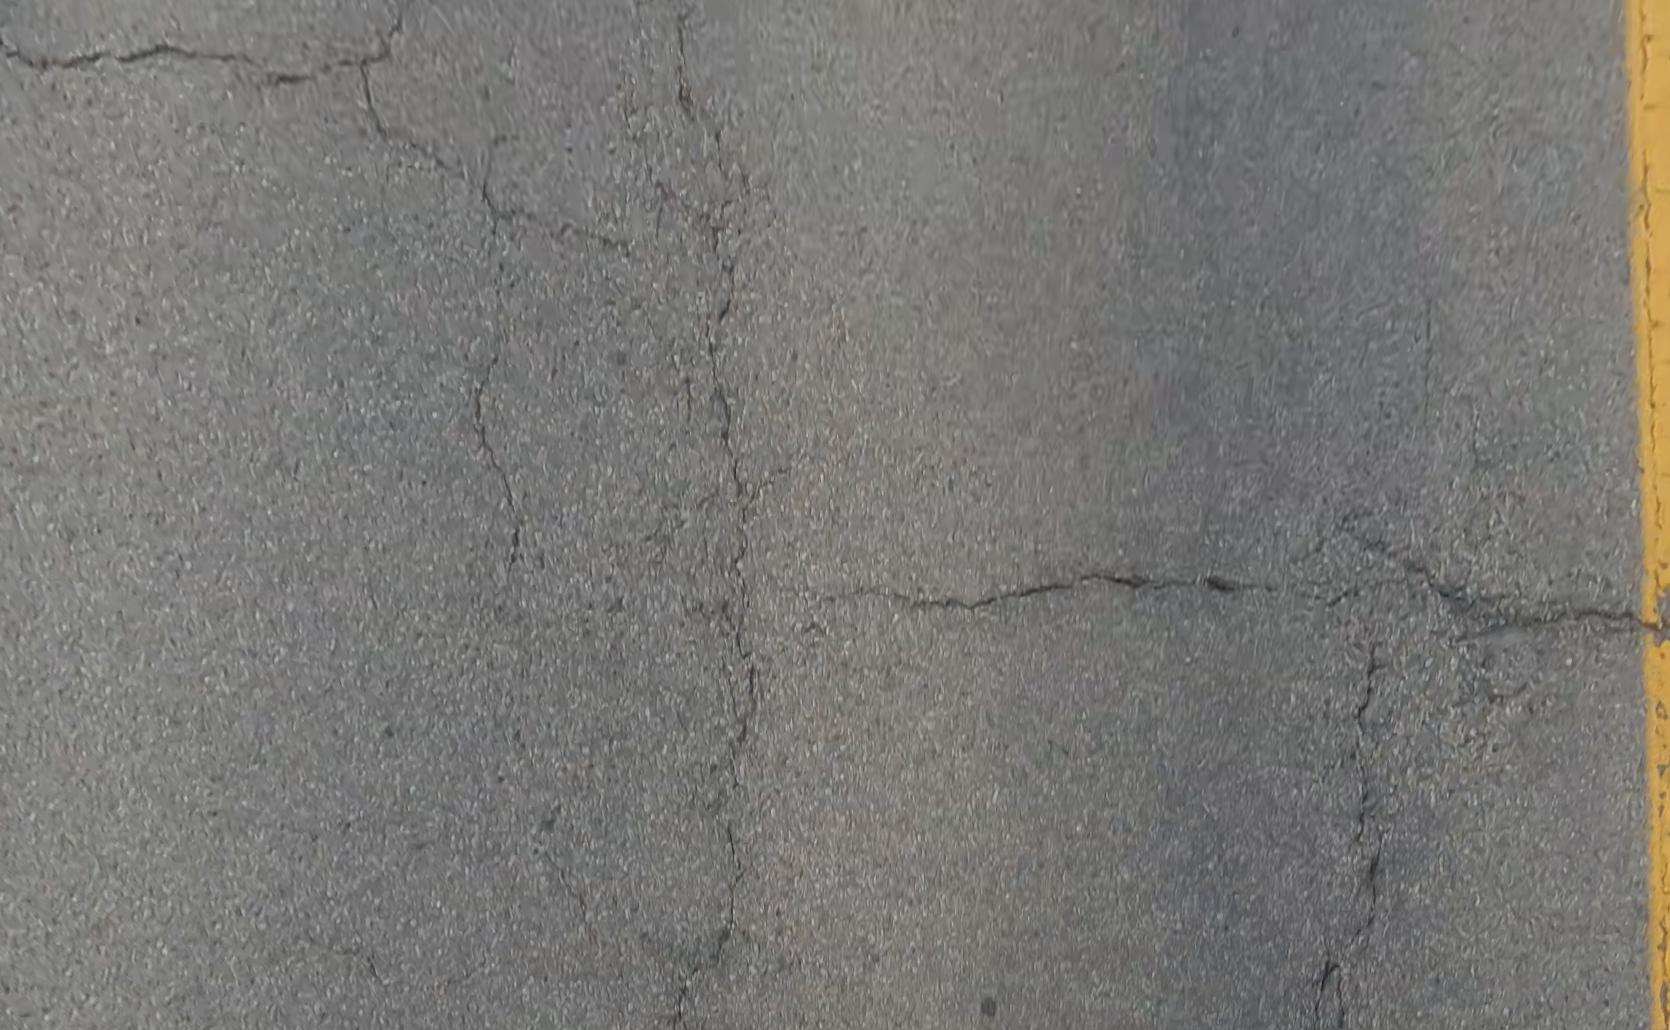pothole: (1449, 596, 1551, 711)
